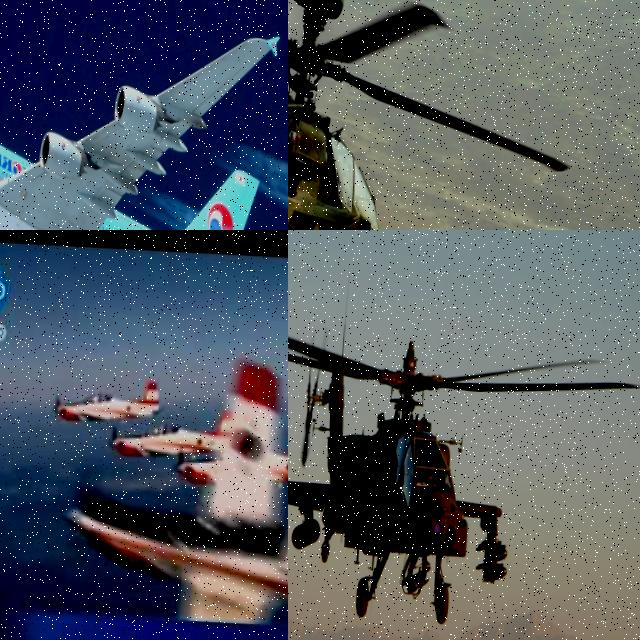A380: (0, 8, 288, 230)
Apache: (288, 289, 640, 637), (288, 0, 580, 230)
KT-1: (53, 353, 288, 640), (170, 415, 288, 502), (110, 406, 256, 466), (46, 378, 166, 438)
